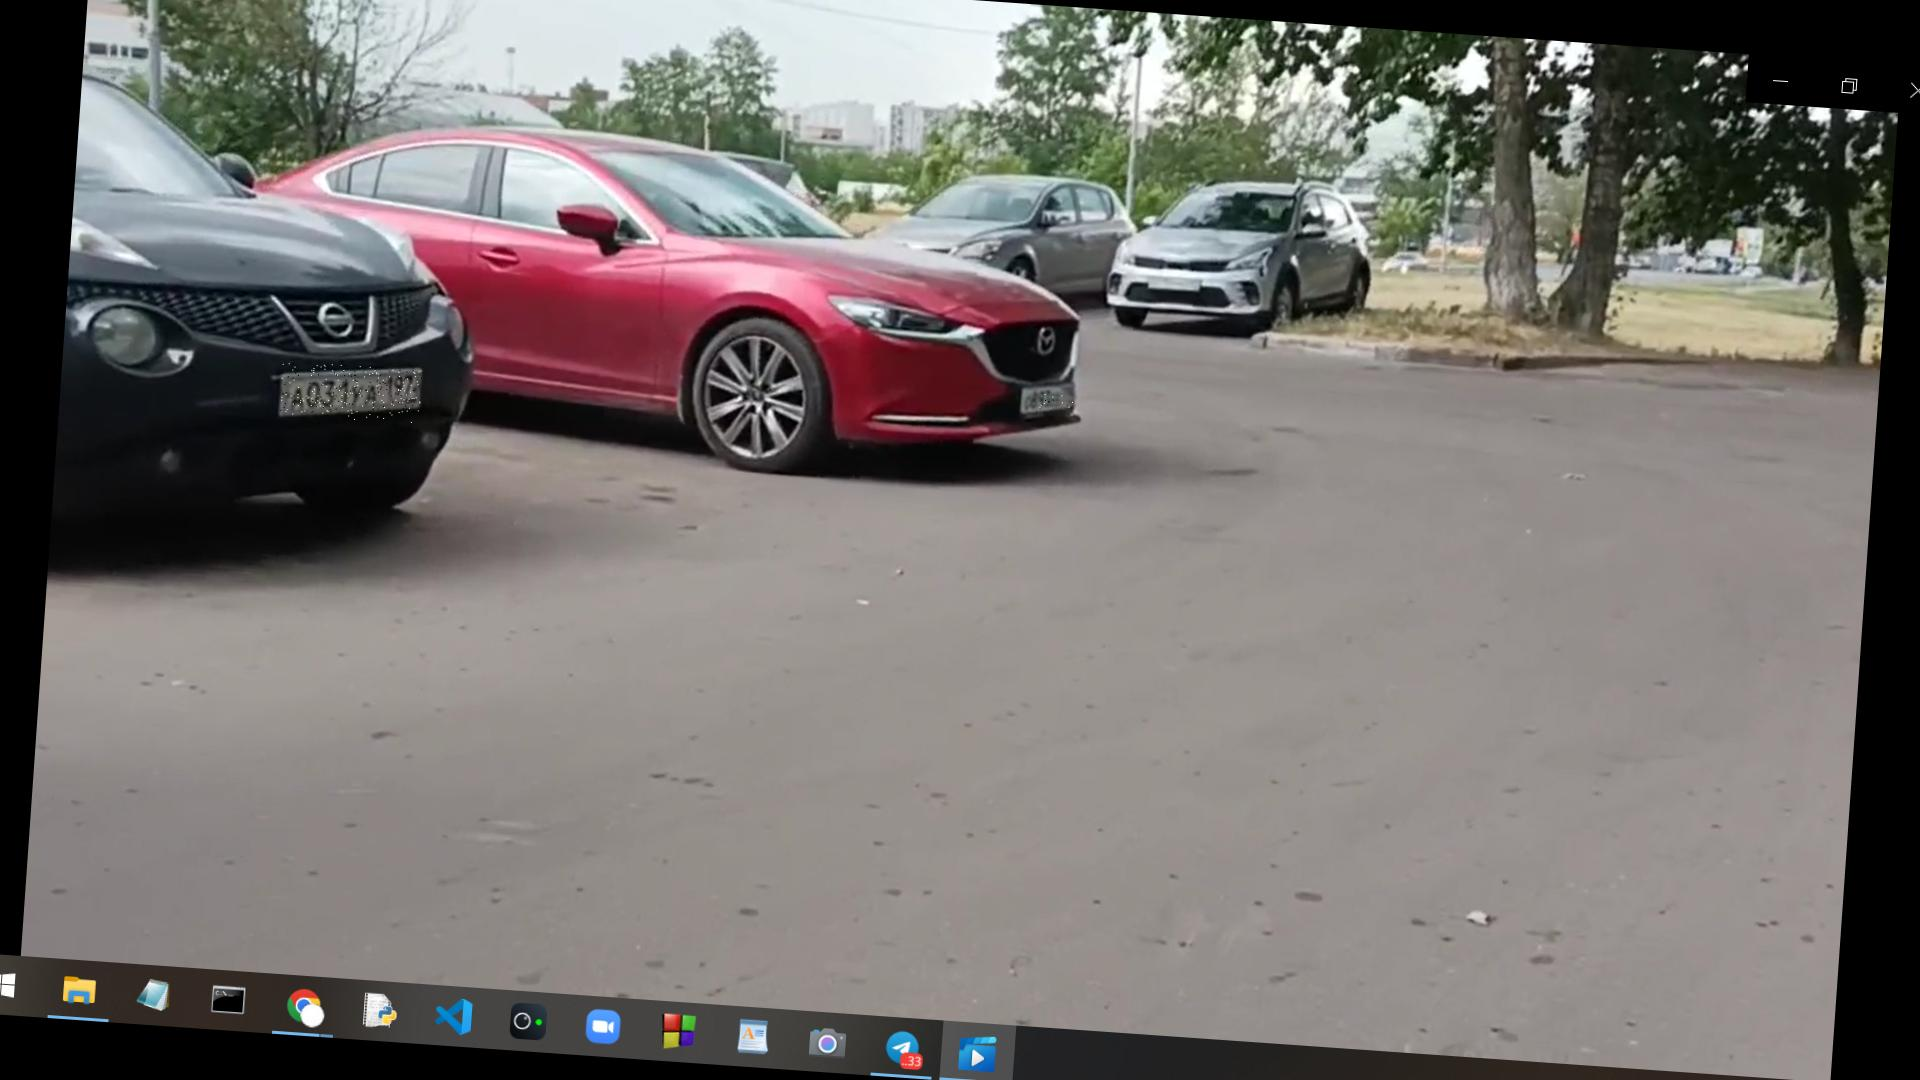plate: (280, 362, 424, 426), (1031, 394, 1074, 418)
